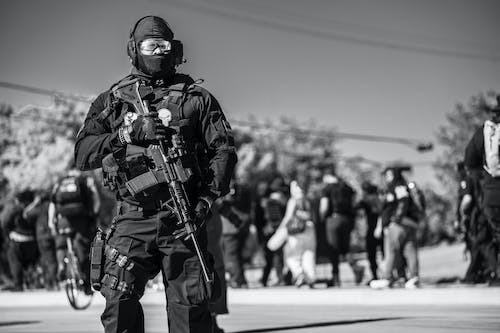gun: (111, 74, 214, 284)
